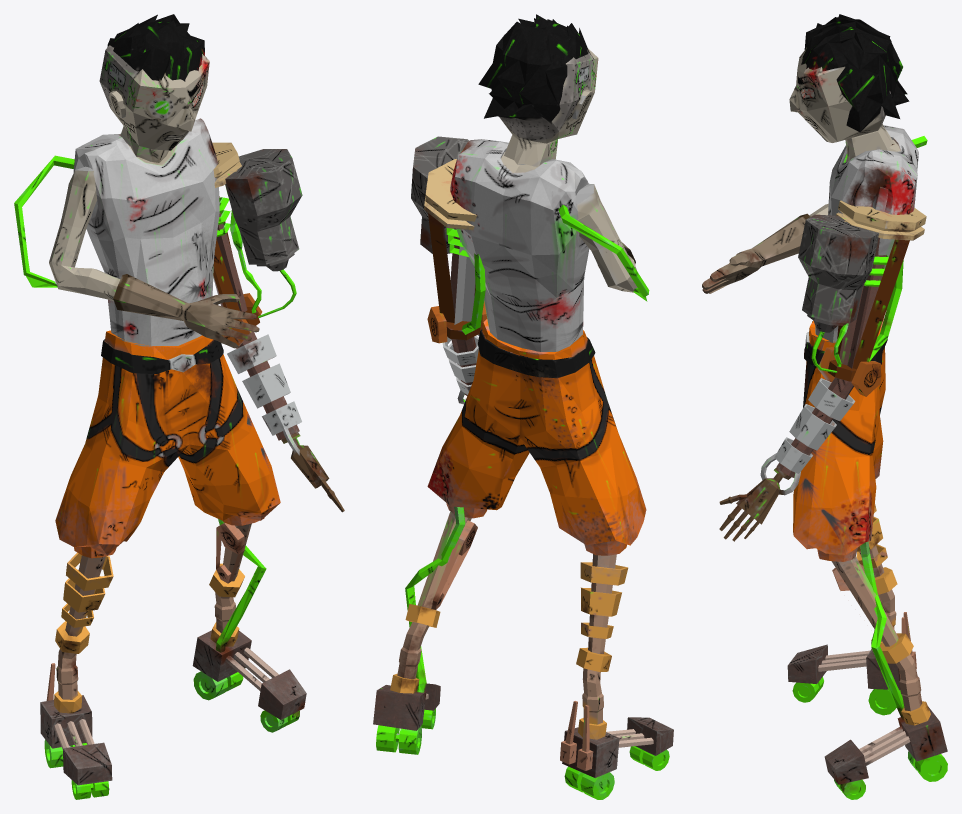
The model's file is CyborgFINALAnimation_000177.obj.
The picture shows the model from 3 angles, left to right: view 1: azimuth 30°, elevation 25°; view 2: azimuth 150°, elevation 25°; view 3: azimuth 270°, elevation 25°; orthographic projection. The views are drawn at different scales.
Visible parts, largest first — view 1: CyborgMesh_Cube.002; view 2: CyborgMesh_Cube.002; view 3: CyborgMesh_Cube.002.
Boxes of the visible parts, <box> form: CyborgMesh_Cube.002: <box>14,14,344,799</box>; CyborgMesh_Cube.002: <box>373,14,673,799</box>; CyborgMesh_Cube.002: <box>702,14,947,799</box>.
Size of the model in its own units: 3.57 by 9.65 by 2.98.
